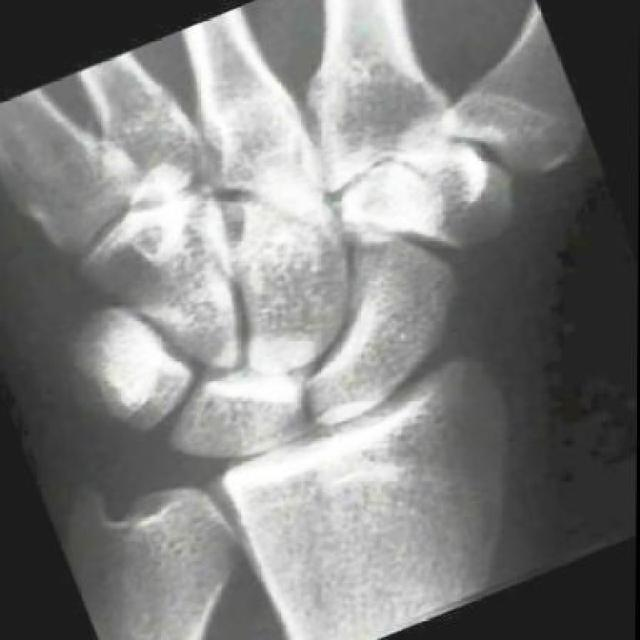Fracture: (366, 271, 468, 362)
